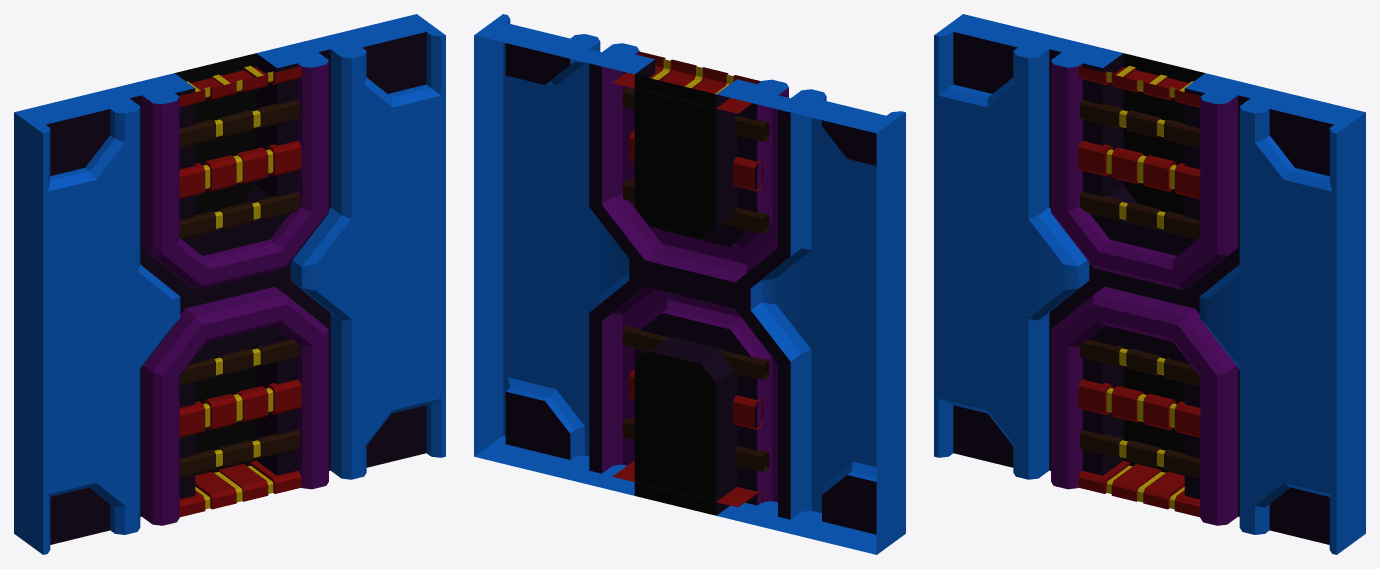
The model's file is OBJ_Mur_2.fbx.
3 renders of one model, left to right at view 1: azimuth 30°, elevation 25°; view 2: azimuth 150°, elevation 25°; view 3: azimuth 330°, elevation 25°, orthographic.
Parts seen in each view (by area): view 1: Mur_2; view 2: Mur_2; view 3: Mur_2.
Boxes of the visible parts, x1=… form: Mur_2: x1=14, y1=14, x2=445, y2=554; Mur_2: x1=474, y1=14, x2=905, y2=554; Mur_2: x1=934, y1=14, x2=1365, y2=554.
Size of the model in its own units: 1600 by 1600 by 202.
